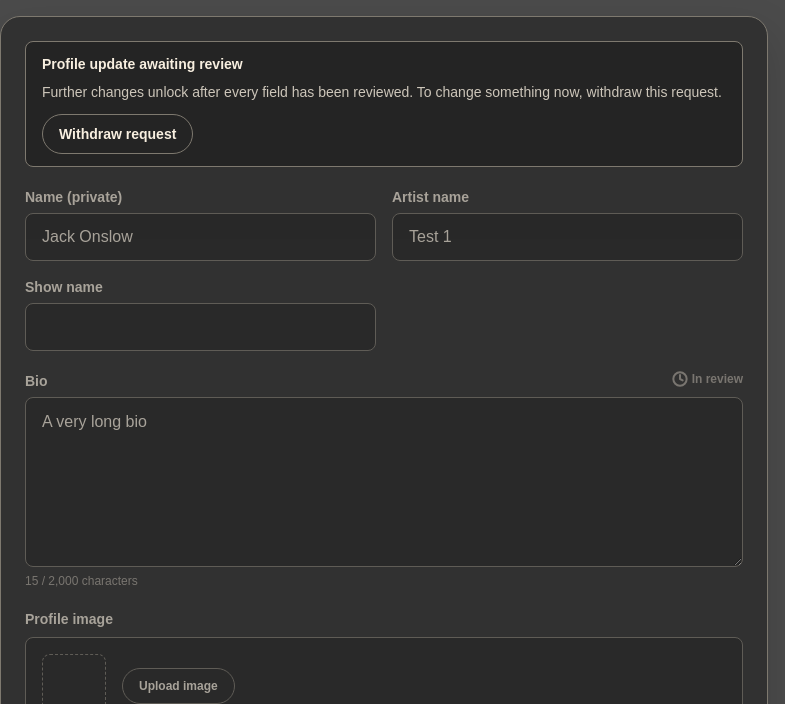
Test: ArtistProfileForm withdraw request › shows the error when the withdrawal fails
Click the button "Withdraw request": (118, 134) [42,114,193,154]
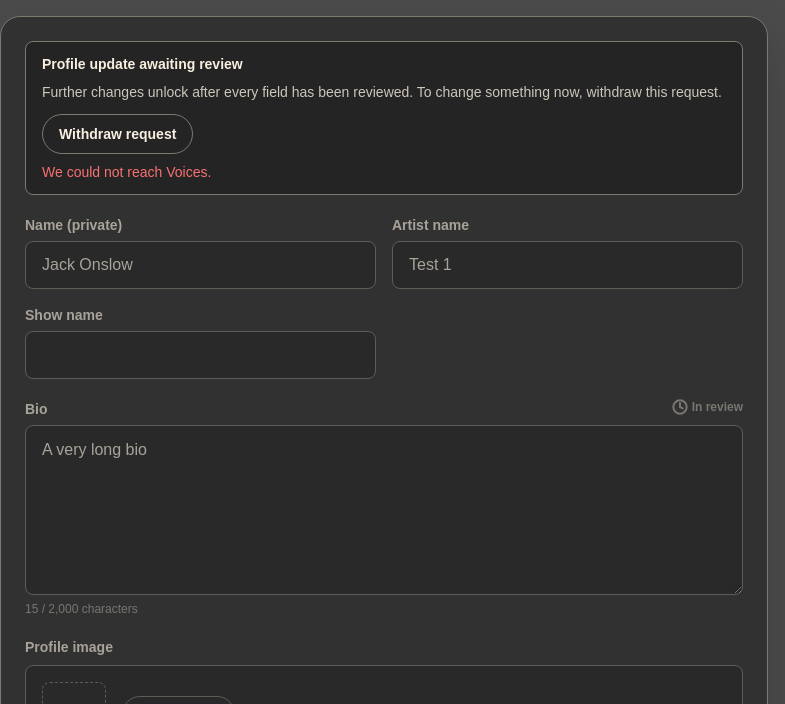
Expected: the message reads "We could not reach Voices.", [42,164,211,180]
